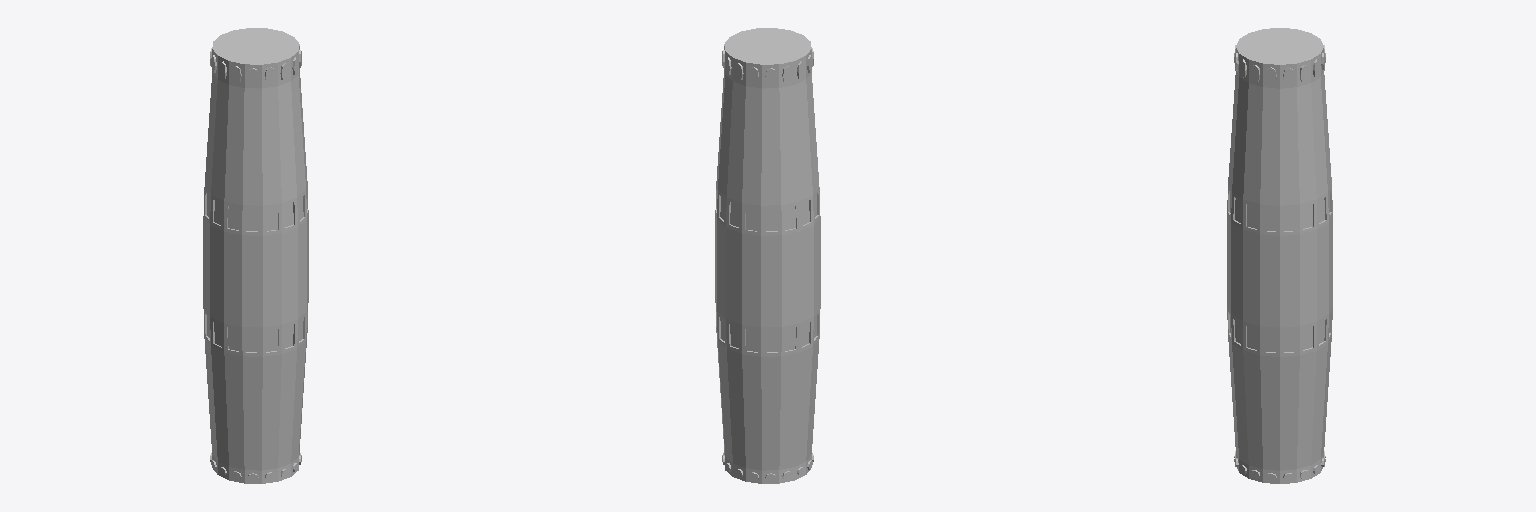
File: gutter_mid.obj
The picture shows the model from 3 angles: view 1: azimuth 30°, elevation 25°; view 2: azimuth 150°, elevation 25°; view 3: azimuth 270°, elevation 25°; orthographic projection.
Parts seen in each view (by area): view 1: Cylinder1; view 2: Cylinder1; view 3: Cylinder1.
Part boxes in pixels (bbox=[...]): Cylinder1: bbox=[203, 28, 308, 483]; Cylinder1: bbox=[715, 28, 820, 483]; Cylinder1: bbox=[1227, 28, 1332, 483].
Bounding box in the file's own units: 0.7392 × 3.23 × 0.7392.